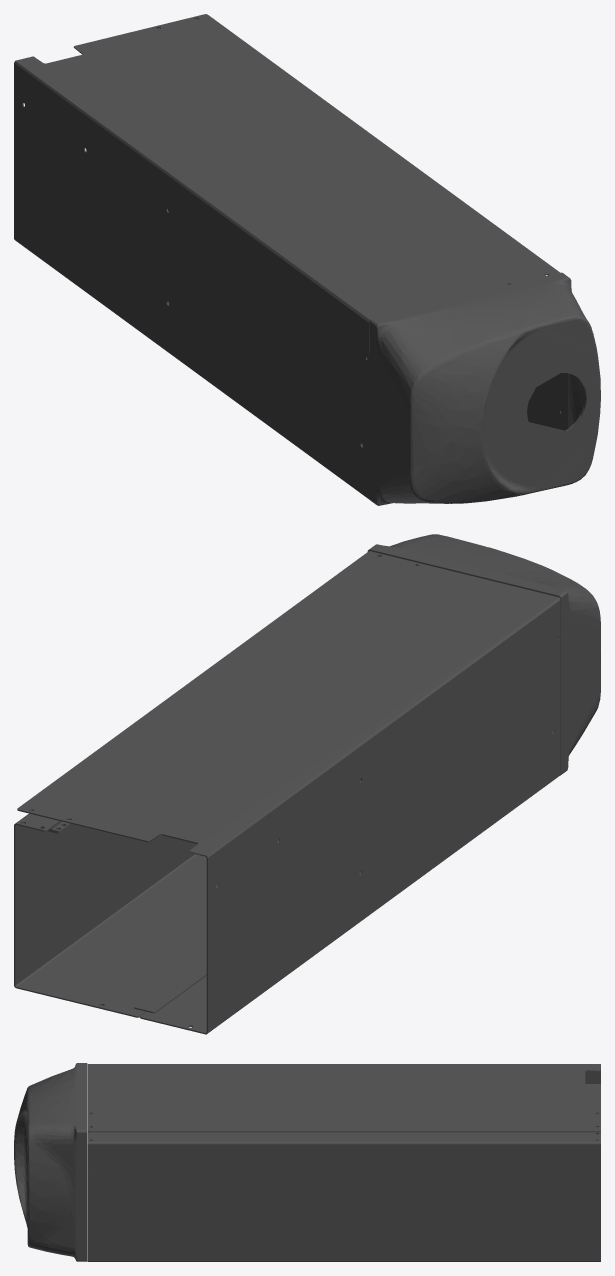
File: torso.obj
3 views of the same model, one above another, from view 1: azimuth 30°, elevation 25°; view 2: azimuth 150°, elevation 25°; view 3: azimuth 270°, elevation 25° (orthographic). The views are drawn at different scales.
Visible parts, largest first — view 1: Torso; view 2: Torso; view 3: Torso.
Part boxes in pixels (x1=…): Torso: x1=14, y1=14, x2=600, y2=505; Torso: x1=14, y1=534, x2=600, y2=1034; Torso: x1=14, y1=1063, x2=600, y2=1261.
Bounding box in the file's own units: 0.154 × 0.137 × 0.5549.
